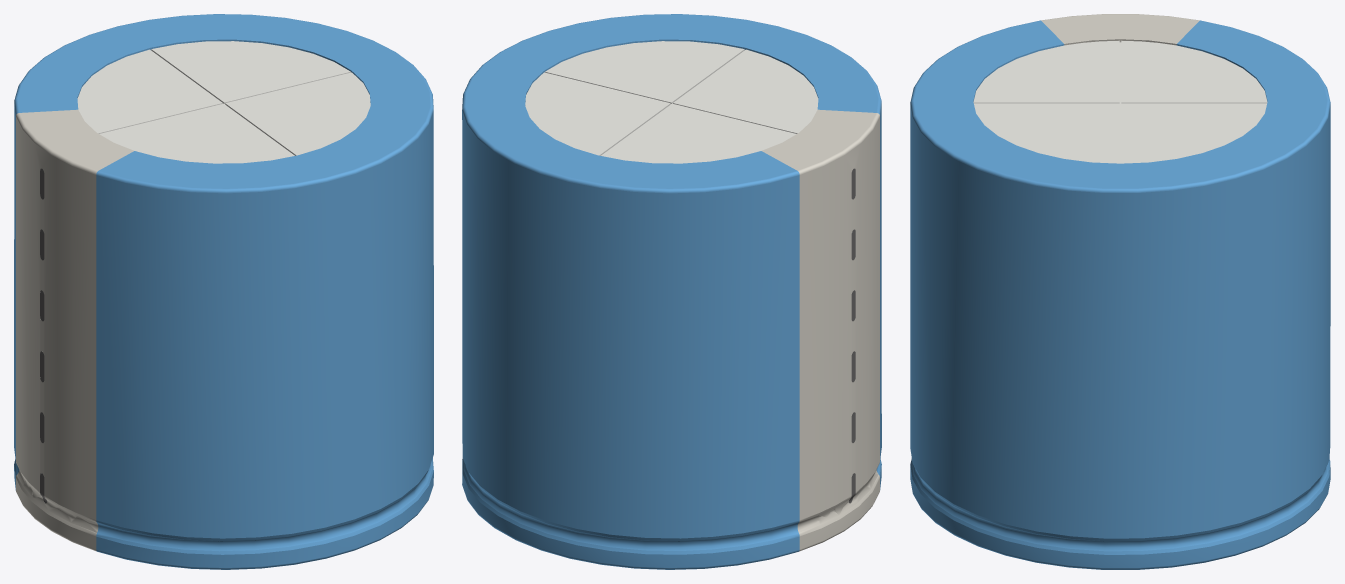
Rendered from kc-cp_radial_d25.0mm_p10.00mm_3pin_snapin.glb.
3 renders of one model, left to right at view 1: azimuth 30°, elevation 25°; view 2: azimuth 150°, elevation 25°; view 3: azimuth 270°, elevation 25°, orthographic.
Parts seen in each view (by area): view 1: 0.16666666666666666_0.4166666666666667_0.75_0, 0.6666666666666666_0.6666666666666666_0.5833333333333334_0, 0.8333333333333334_0.8333333333333334_0.75_0.85, 0.16666666666666666_0.16666666666666666_0.16666666666666666_; view 2: 0.16666666666666666_0.4166666666666667_0.75_0, 0.6666666666666666_0.6666666666666666_0.5833333333333334_0, 0.8333333333333334_0.8333333333333334_0.75_0.85, 0.16666666666666666_0.16666666666666666_0.16666666666666666_; view 3: 0.16666666666666666_0.4166666666666667_0.75_0, 0.8333333333333334_0.8333333333333334_0.75_0.85, 0.6666666666666666_0.6666666666666666_0.5833333333333334_0.
Part boxes in pixels (x1,y1,x2,y2): 0.16666666666666666_0.4166666666666667_0.75_0: [14, 14, 433, 569]; 0.6666666666666666_0.6666666666666666_0.5833333333333334_0: [16, 109, 133, 551]; 0.8333333333333334_0.8333333333333334_0.75_0.85: [77, 41, 370, 163]; 0.16666666666666666_0.16666666666666666_0.16666666666666666_: [40, 168, 47, 503]; 0.16666666666666666_0.4166666666666667_0.75_0: [462, 14, 881, 569]; 0.6666666666666666_0.6666666666666666_0.5833333333333334_0: [762, 109, 879, 551]; 0.8333333333333334_0.8333333333333334_0.75_0.85: [525, 41, 818, 163]; 0.16666666666666666_0.16666666666666666_0.16666666666666666_: [848, 168, 855, 503]; 0.16666666666666666_0.4166666666666667_0.75_0: [910, 20, 1330, 569]; 0.8333333333333334_0.8333333333333334_0.75_0.85: [973, 40, 1267, 163]; 0.6666666666666666_0.6666666666666666_0.5833333333333334_0: [1041, 14, 1199, 45].
Size of the model in its own units: 2.5 by 2.7 by 2.5.
